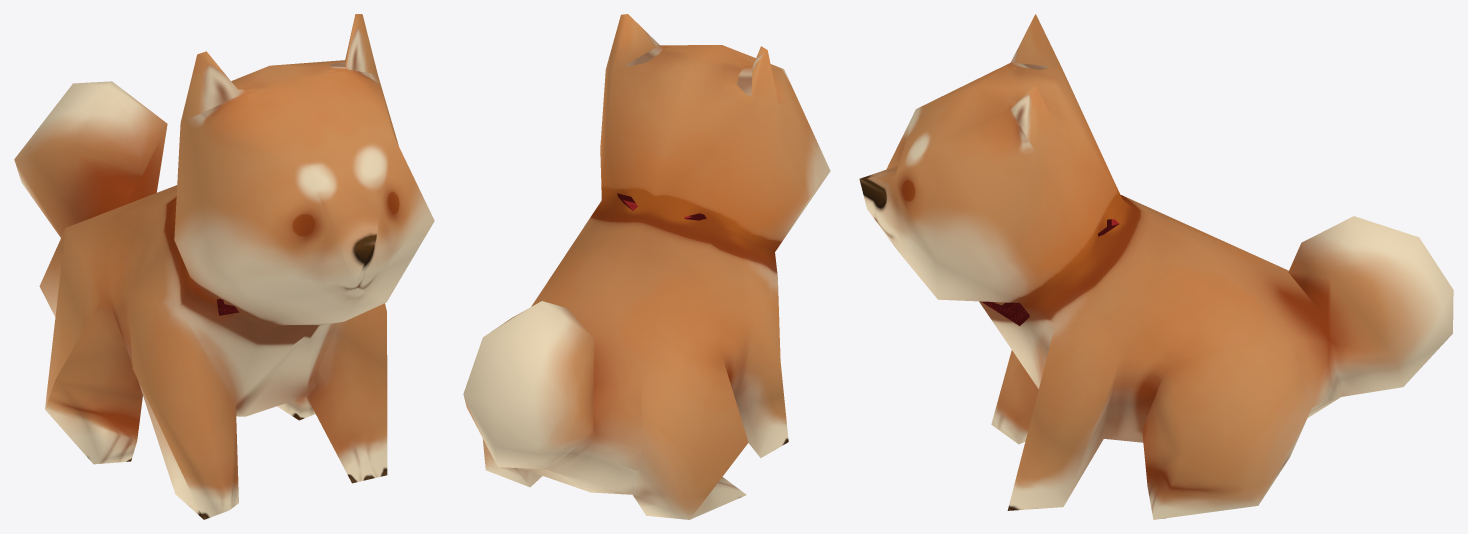
Rendered from modelo_low.glb.
3 views of the same model, side by side, from view 1: azimuth 30°, elevation 25°; view 2: azimuth 150°, elevation 25°; view 3: azimuth 270°, elevation 25° (orthographic). The views are drawn at different scales.
Parts seen in each view (by area): view 1: Box002; view 2: Box002; view 3: Box002, Group18985.
Boxes of the visible parts, bbox=[...] form: Box002: bbox=[14, 14, 434, 519]; Box002: bbox=[463, 14, 830, 519]; Box002: bbox=[859, 14, 1453, 519]; Group18985: bbox=[981, 219, 1119, 325].
Bounding box in the file's own units: 0.9023 × 1.38 × 1.76.
1 material, 1 textured.
